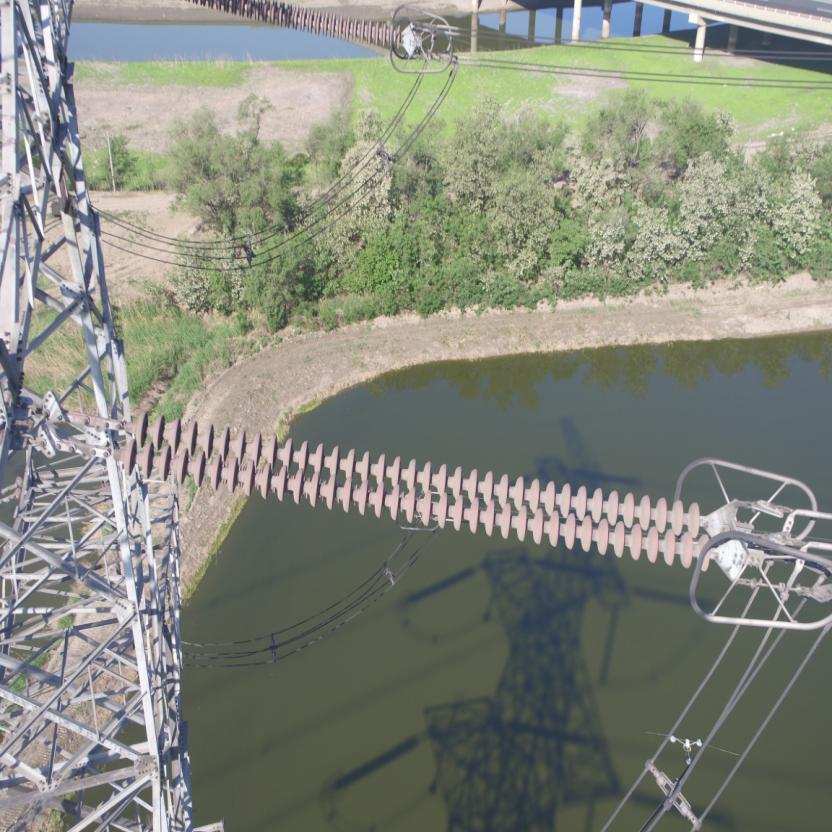insulator: (87, 407, 728, 571), (174, 0, 404, 50)
